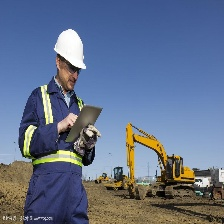helmet: (53, 28, 88, 73)
person: (20, 30, 98, 224)
